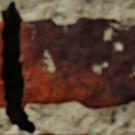brick: (35, 132, 72, 134)
broken_brick: (19, 17, 134, 108), (0, 78, 5, 107), (0, 22, 3, 64)
crack: (0, 1, 35, 134)
